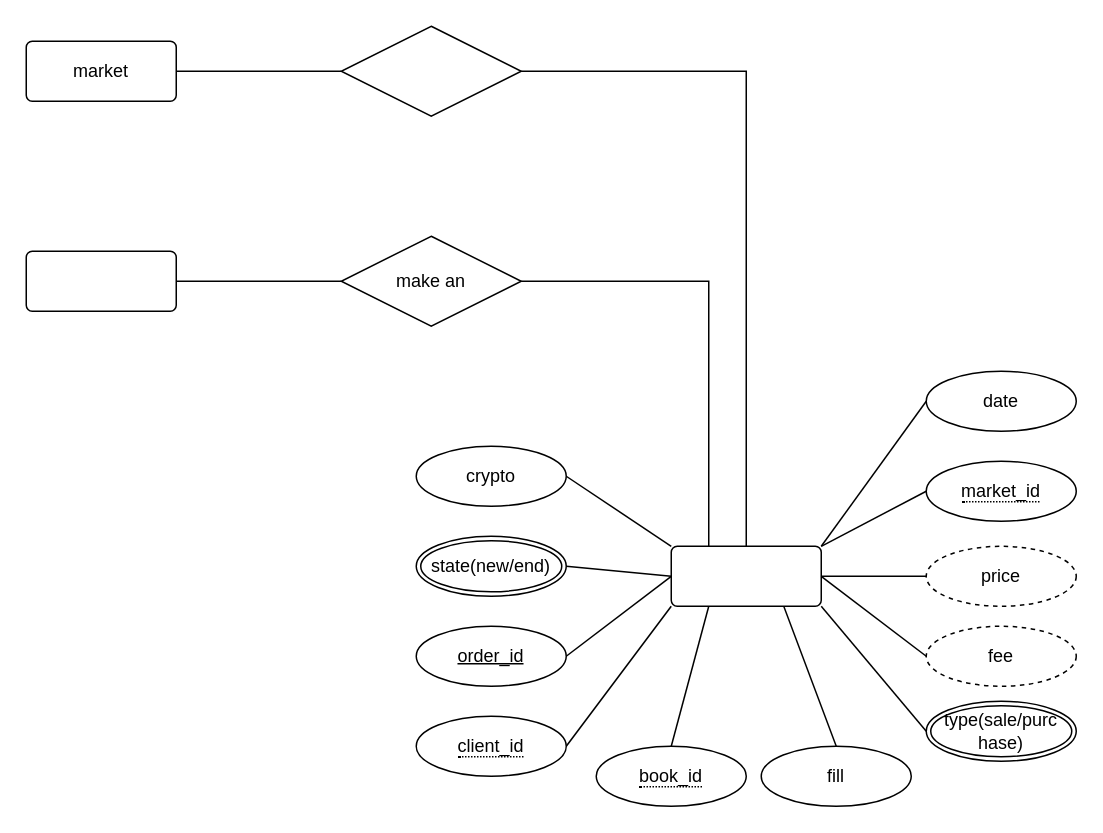
The diagram is 1103 pixels wide and 833 high, and some of its shapes have lost their labels. The centre of each missing label's shape, as x and y in pixels:
base on: point (430, 70)
orders: point (745, 575)
user: point (100, 280)
